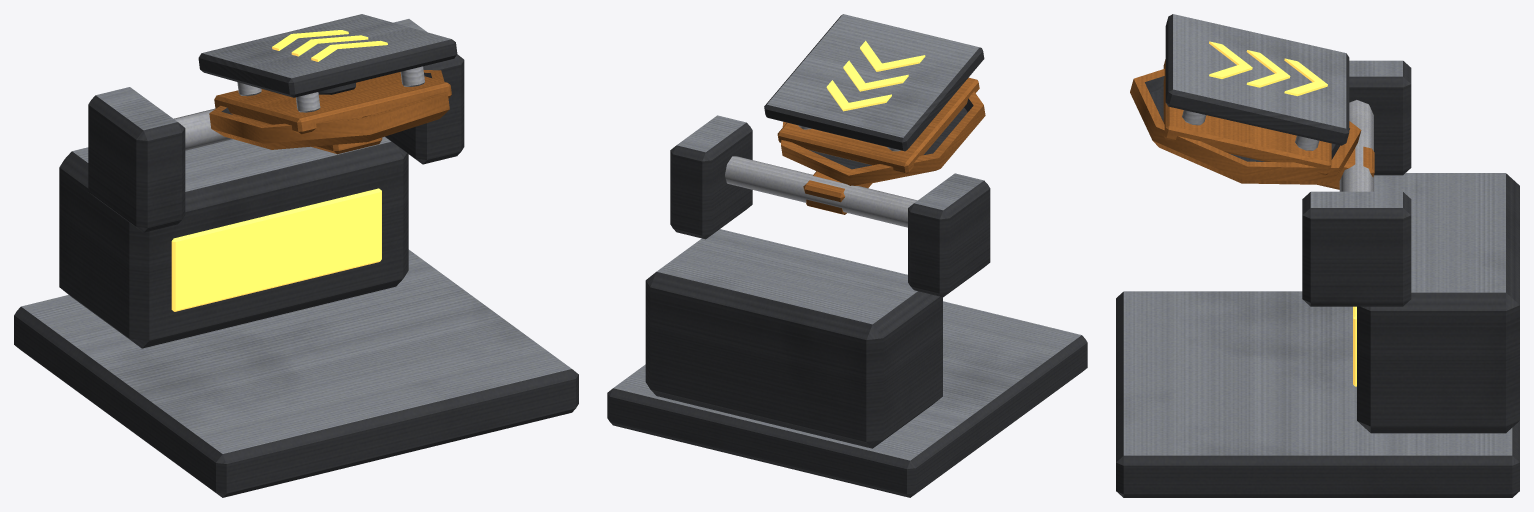
The model's file is R4X_KnockbackTrapDeployer_LOD1.glb.
The picture shows the model from 3 angles, left to right: view 1: azimuth 30°, elevation 25°; view 2: azimuth 150°, elevation 25°; view 3: azimuth 270°, elevation 25°; orthographic projection. The views are drawn at different scales.
Visible parts, largest first — view 1: R4X_KnockbackTrapDeployer_LOD1; view 2: R4X_KnockbackTrapDeployer_LOD1; view 3: R4X_KnockbackTrapDeployer_LOD1.
Boxes of the visible parts, bbox=[...] form: R4X_KnockbackTrapDeployer_LOD1: bbox=[14, 14, 578, 497]; R4X_KnockbackTrapDeployer_LOD1: bbox=[607, 14, 1087, 497]; R4X_KnockbackTrapDeployer_LOD1: bbox=[1116, 14, 1519, 497].
Size of the model in its own units: 0.52 by 0.5172 by 0.52.
5 materials, 4 textured.
